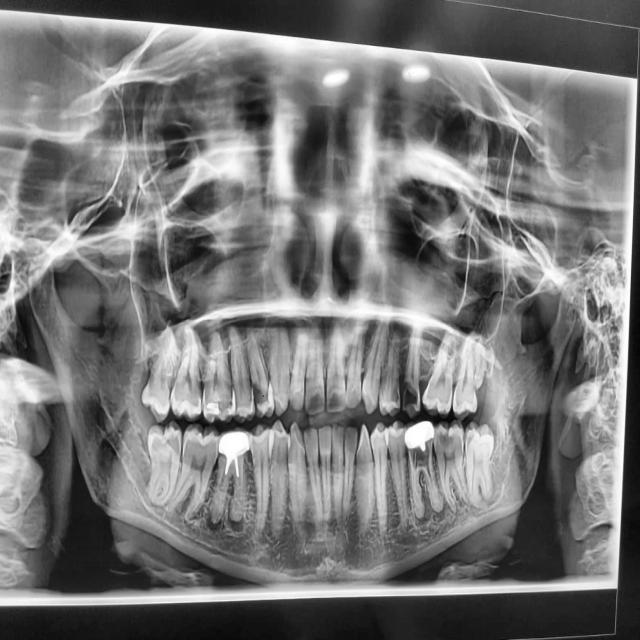karies: (217, 428, 256, 471), (403, 419, 438, 453), (401, 385, 423, 419), (309, 395, 325, 417), (330, 390, 340, 415)
